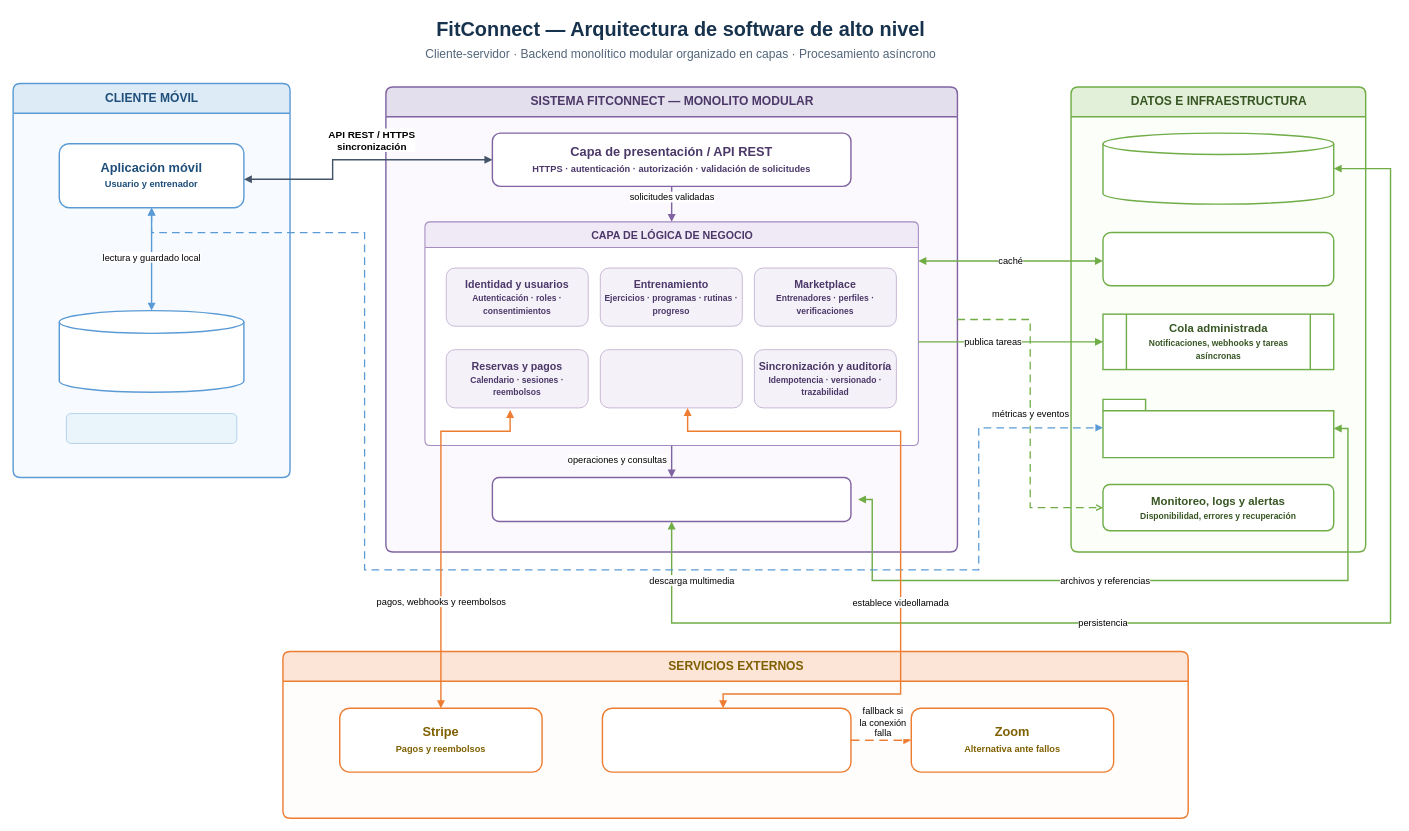
This 1409x831 diagram has some shape labels left out. Each missing label, with the centre of its shape:
Capa de acceso a datos e integraciones: point 671,499
Comunicación Chat · videollamadas · notificaciones: point 671,378
Funcionamiento offline-first: point 151,428
Object storage + CDN Imágenes, videos y documentación: point 1218,428
PostgreSQL administrado Datos centrales, historial y auditoría: point 1218,168
Redis Caché, rate limiting y datos temporales: point 1218,258
SQLite local Datos descargados, registros y operaciones pendientes: point 151,351
WebRTC + STUN/TURN Videollamada individual cifrada: point 726,739
